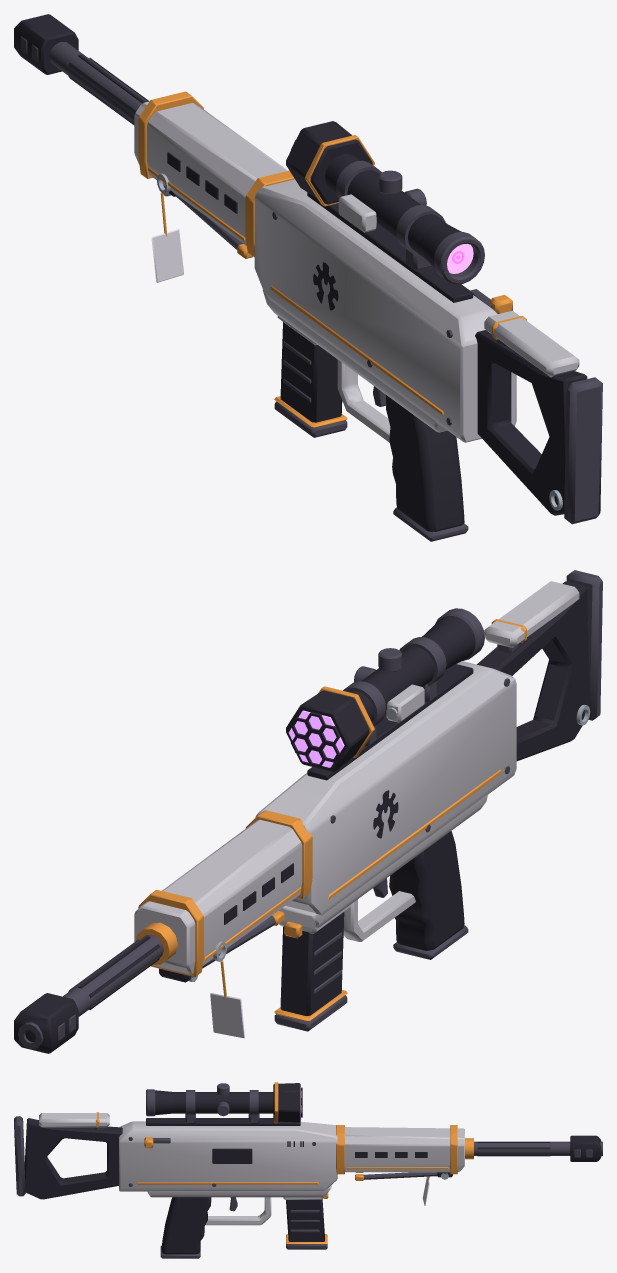
The model's file is r41_dmr.glb.
The picture shows the model from 3 angles, top to bottom: view 1: azimuth 30°, elevation 25°; view 2: azimuth 150°, elevation 25°; view 3: azimuth 270°, elevation 25°; orthographic projection. The views are drawn at different scales.
Visible parts, largest first — view 1: r41_dmr_light, r41_dmr_shell, r41_dmr_metal, mag, r41_dmr_amber, r41_dmr_ceramic; view 2: r41_dmr_light, r41_dmr_shell, r41_dmr_metal, r41_dmr_amber, mag, r41_dmr_glow_dim, r41_dmr_ceramic; view 3: r41_dmr_light, r41_dmr_shell, r41_dmr_metal, r41_dmr_amber, mag.
Boxes of the visible parts, x1,y1,x2,y2 form: r41_dmr_light: [134, 101, 579, 442]; r41_dmr_shell: [14, 14, 587, 531]; r41_dmr_metal: [20, 36, 602, 541]; mag: [274, 322, 347, 437]; r41_dmr_amber: [138, 91, 526, 415]; r41_dmr_ceramic: [151, 229, 183, 282]; r41_dmr_light: [134, 581, 579, 974]; r41_dmr_shell: [14, 581, 590, 1053]; r41_dmr_metal: [18, 570, 602, 1049]; r41_dmr_amber: [135, 619, 526, 998]; mag: [274, 912, 347, 1031]; r41_dmr_glow_dim: [288, 710, 344, 767]; r41_dmr_ceramic: [210, 993, 244, 1038]; r41_dmr_light: [39, 1113, 464, 1225]; r41_dmr_shell: [24, 1083, 601, 1254]; r41_dmr_metal: [14, 1083, 602, 1258]; r41_dmr_amber: [96, 1082, 473, 1198]; mag: [286, 1199, 327, 1249].
Size of the model in its own units: 0.0632 by 0.205 by 0.6485.
